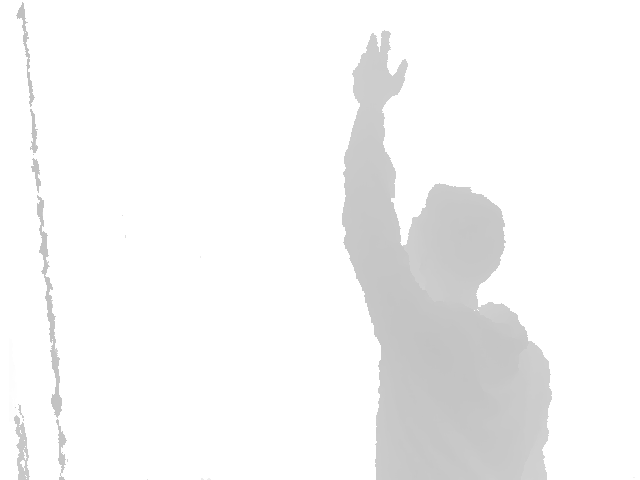hand: (352, 31, 408, 110)
head: (398, 183, 506, 299)
person: (340, 31, 554, 480)
